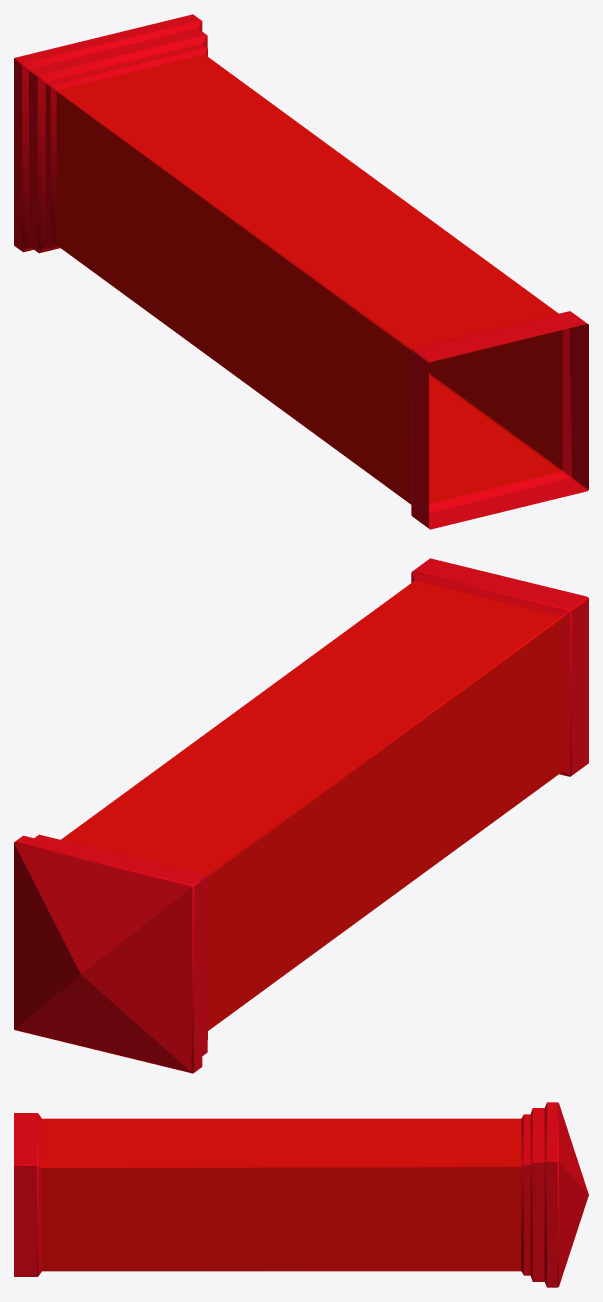
File: SM_Park_wall_B_2.FBX
3 views of the same model, one above another, from view 1: azimuth 30°, elevation 25°; view 2: azimuth 150°, elevation 25°; view 3: azimuth 270°, elevation 25° (orthographic). The views are drawn at different scales.
Visible parts, largest first — view 1: SM_Park_wall_B_2_LOD0; view 2: SM_Park_wall_B_2_LOD0; view 3: SM_Park_wall_B_2_LOD0.
Boxes of the visible parts, box(x1,y1,x2,y2) form: SM_Park_wall_B_2_LOD0: box(14, 14, 588, 529); SM_Park_wall_B_2_LOD0: box(14, 558, 588, 1073); SM_Park_wall_B_2_LOD0: box(14, 1102, 588, 1287).
Size of what is drawn, in the model's own units: 48.38 by 199 by 48.38.
